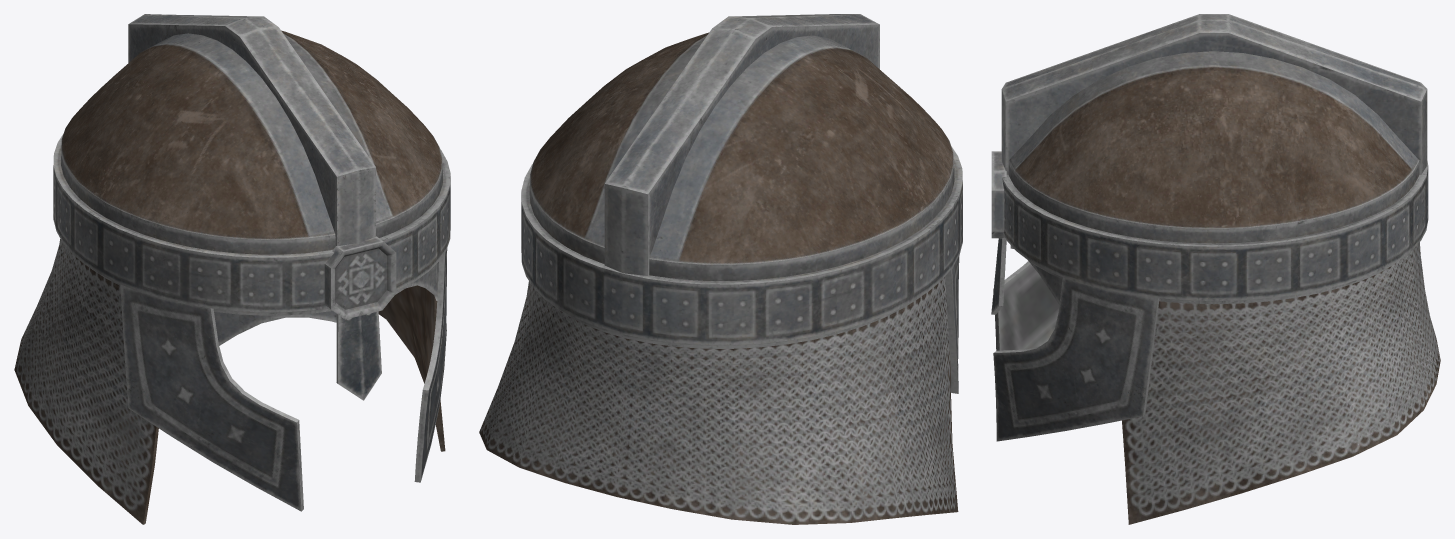
Rendered from sk_dwarf_erebor_helmet_leather_heavy_a.fbx.
The picture shows the model from 3 angles, left to right: view 1: azimuth 30°, elevation 25°; view 2: azimuth 150°, elevation 25°; view 3: azimuth 270°, elevation 25°; orthographic projection. The views are drawn at different scales.
Parts seen in each view (by area): view 1: sk_dwarf_erebor_helmet_leather_heavy_a; view 2: sk_dwarf_erebor_helmet_leather_heavy_a; view 3: sk_dwarf_erebor_helmet_leather_heavy_a.
Boxes of the visible parts, box(x1,y1,x2,y2) form: sk_dwarf_erebor_helmet_leather_heavy_a: box(14, 14, 450, 524); sk_dwarf_erebor_helmet_leather_heavy_a: box(479, 14, 962, 524); sk_dwarf_erebor_helmet_leather_heavy_a: box(991, 14, 1440, 524).
Size of the model in its own units: 0.2777 by 0.2997 by 0.3178.
